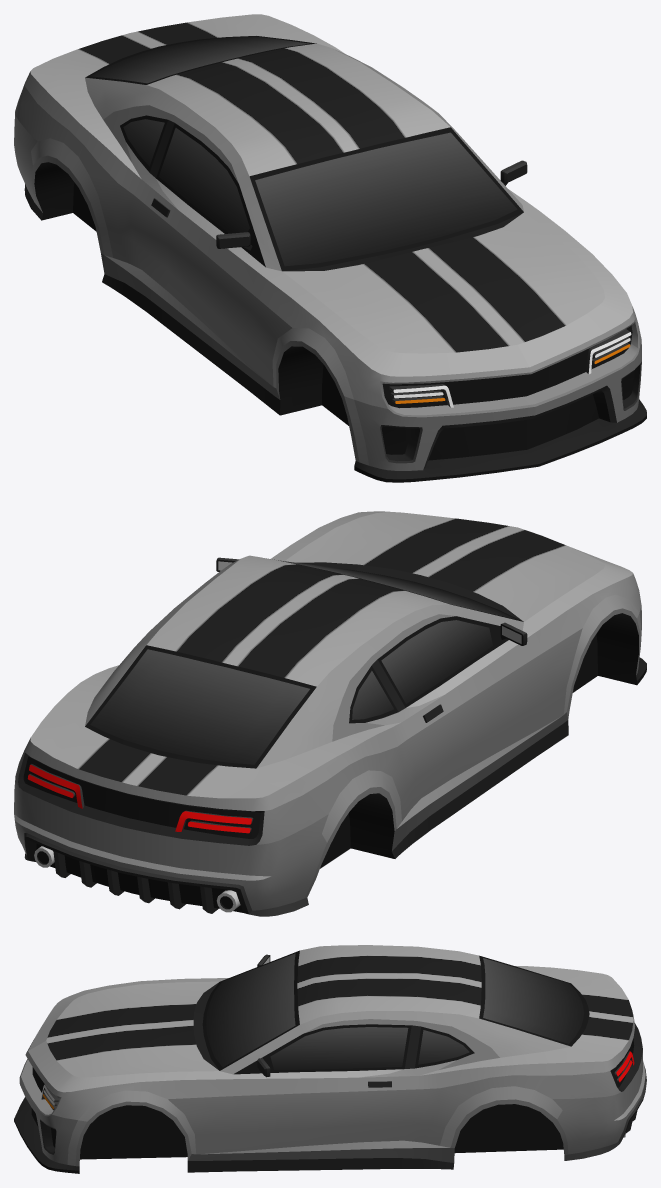
File: WhiteCar.fbx
The picture shows the model from 3 angles, top to bottom: view 1: azimuth 30°, elevation 25°; view 2: azimuth 150°, elevation 25°; view 3: azimuth 270°, elevation 25°; orthographic projection. The views are drawn at different scales.
Parts seen in each view (by area): view 1: Body; view 2: Body; view 3: Body.
Part boxes in pixels (<box>): Body: <box>14,14,646,482</box>; Body: <box>14,511,646,916</box>; Body: <box>14,945,646,1173</box>.
Size of the model in its own units: 7.21 by 4.3 by 16.87.
2 materials, 2 textured.
